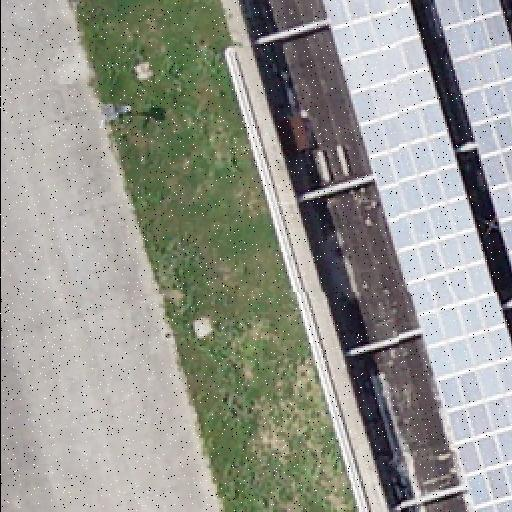solar-panel: (321, 0, 511, 512), (432, 0, 512, 264)
